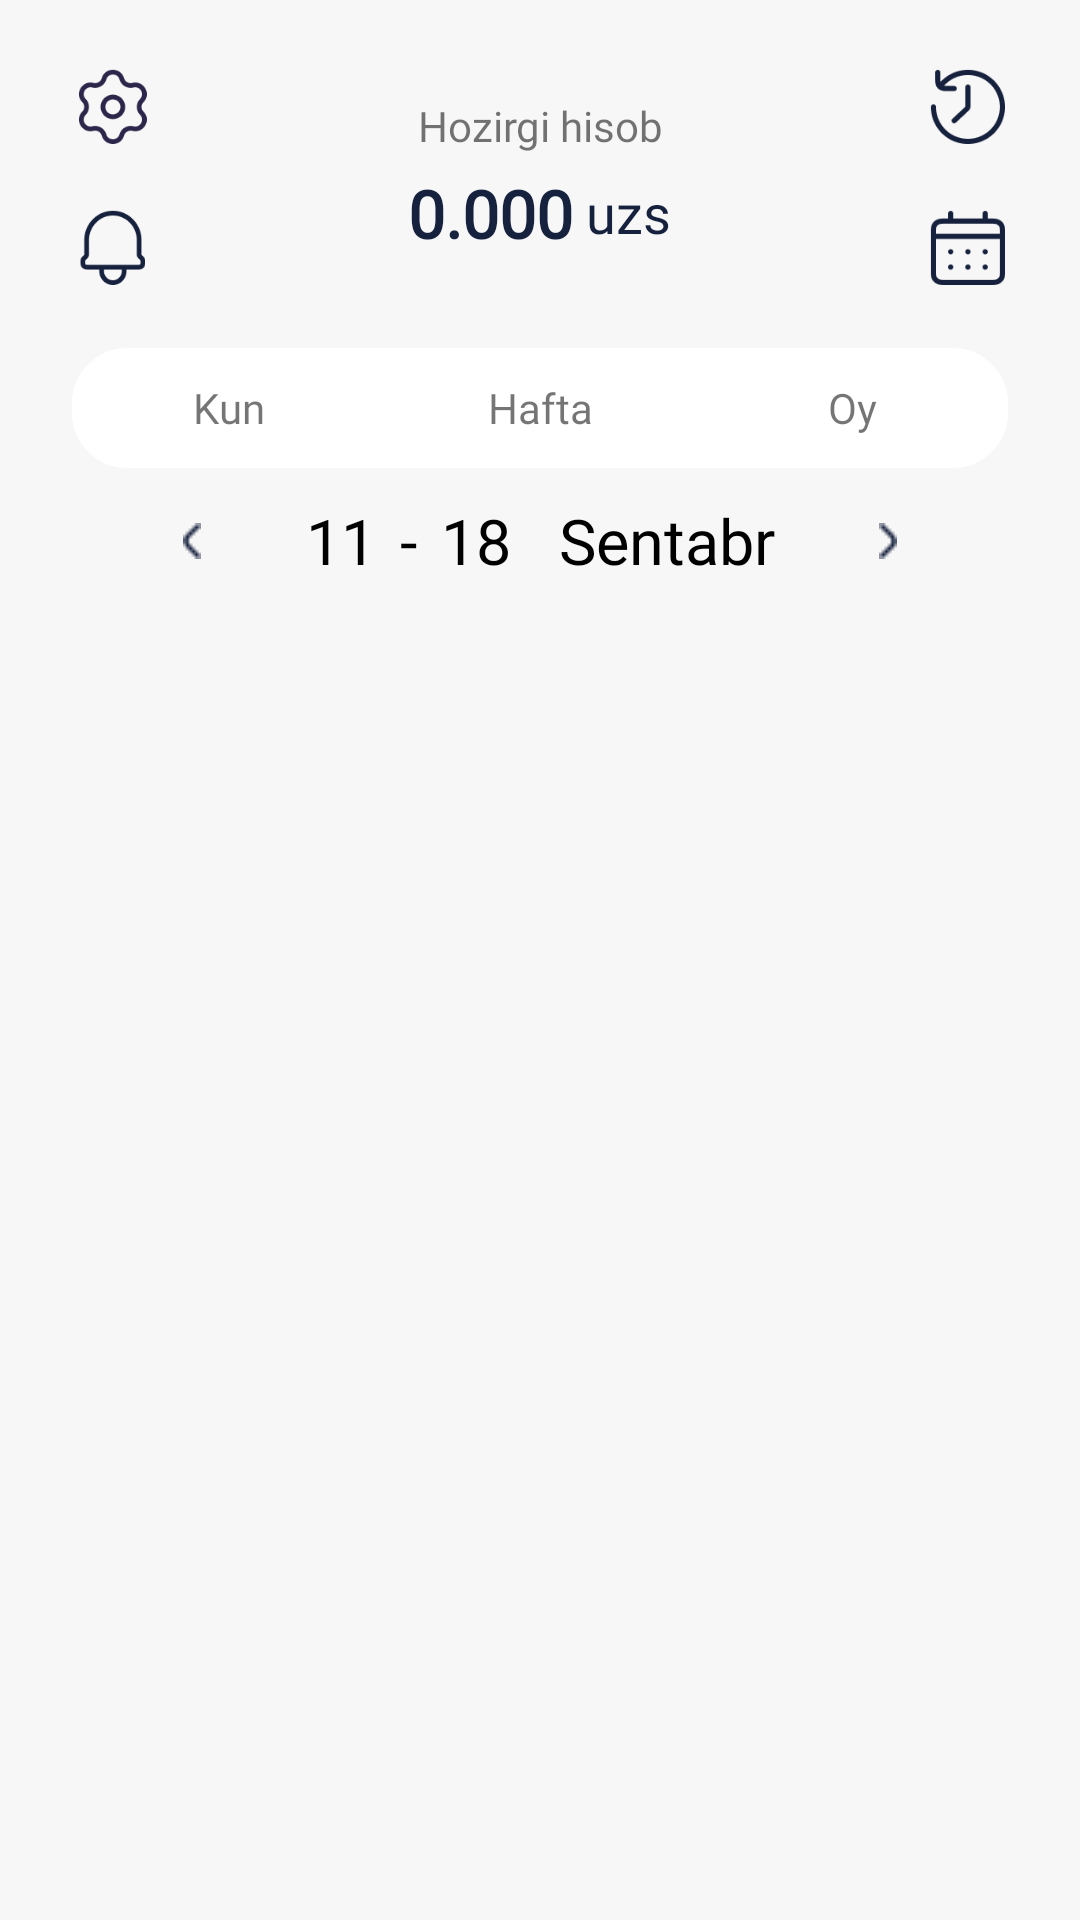

Locate icon controls on the screen. Image size 1080w x 1920h, boxes as (x1, y1, x2, y2).
calendar: (931, 211, 1005, 285)
history: (931, 70, 1005, 144)
left: (183, 523, 201, 559)
notice: (80, 210, 145, 285)
right: (879, 523, 897, 559)
settings: (79, 69, 147, 144)
